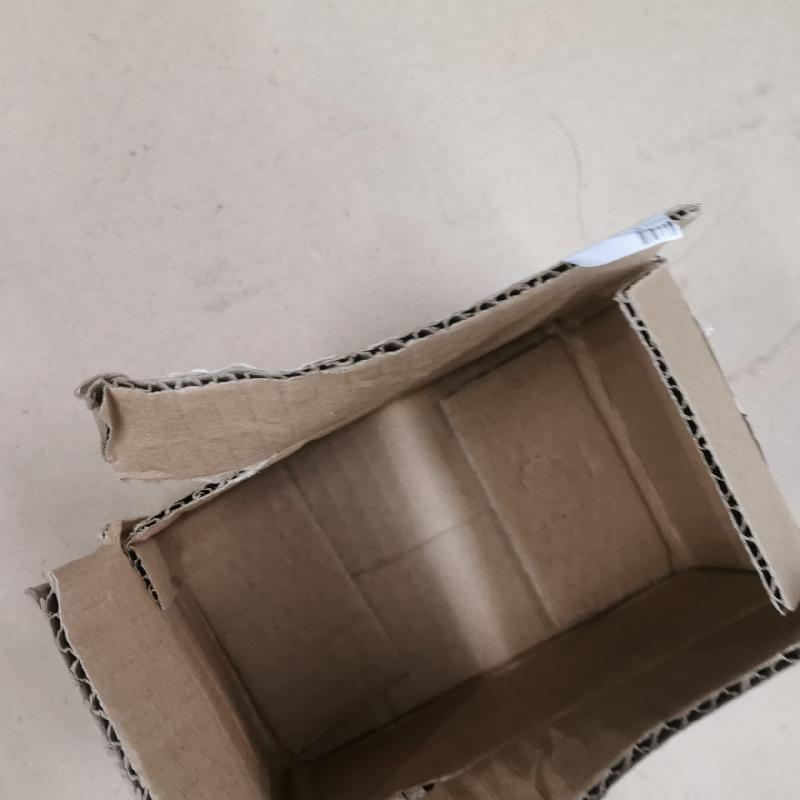boxes: (9, 199, 799, 800)
